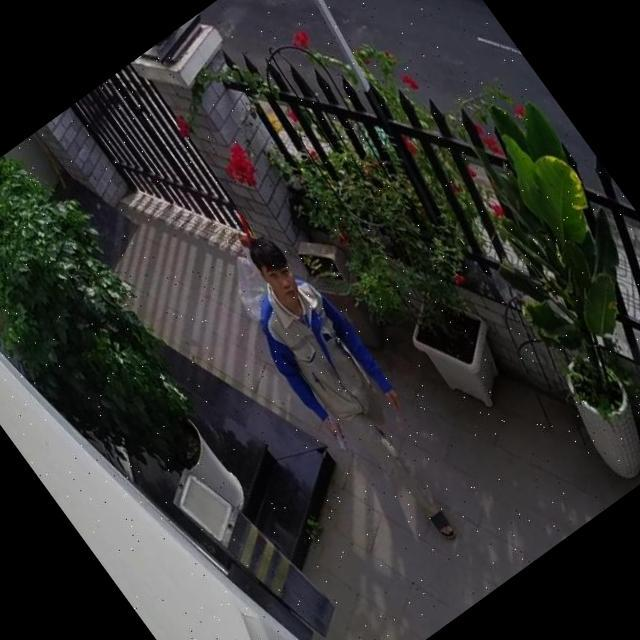person: (209, 224, 486, 562)
